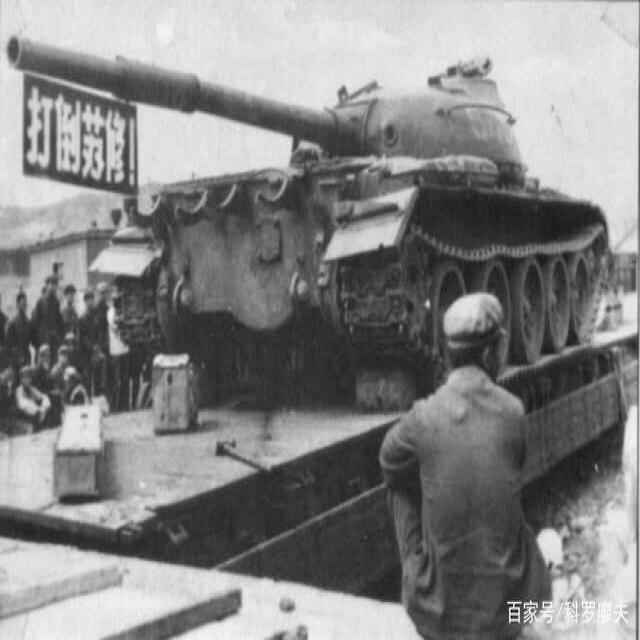north tank: (1, 0, 618, 427)
